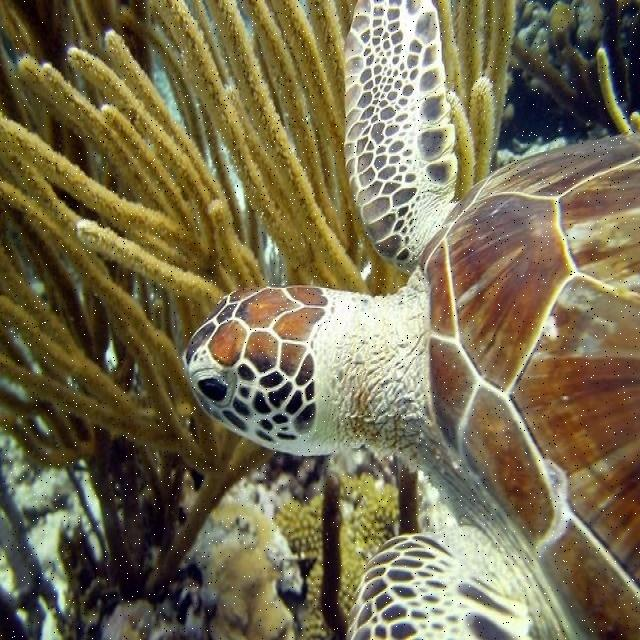aquatic plants: (0, 1, 514, 607)
fish: (181, 0, 639, 639)
reefs: (279, 471, 400, 637)
